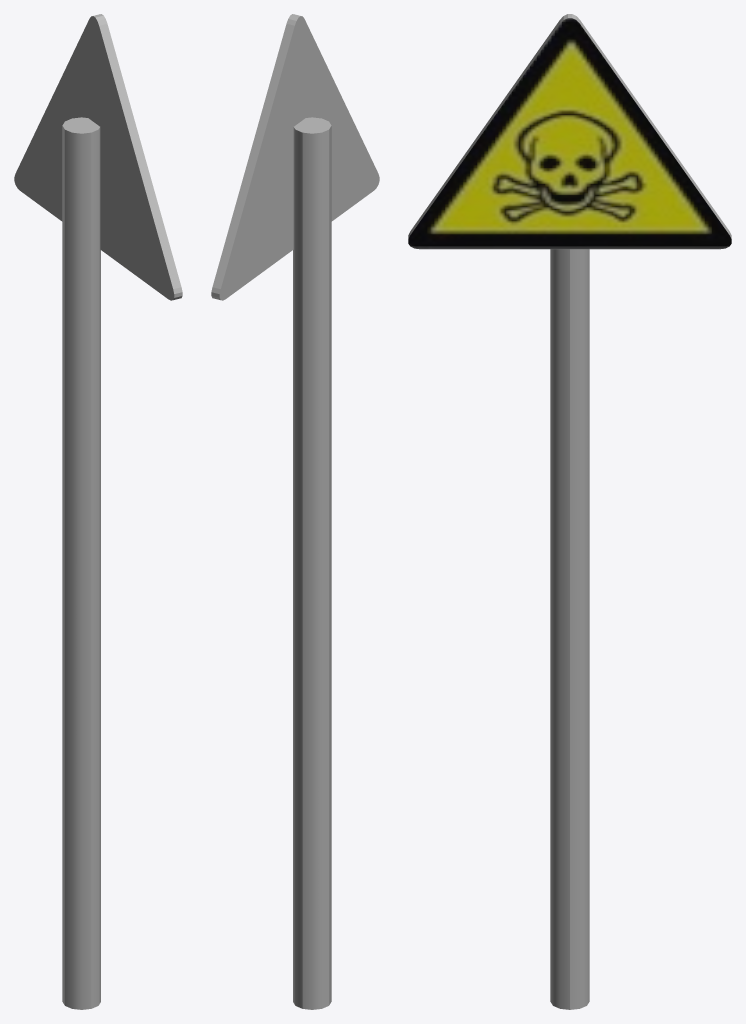
Rendered from rambu 4.fbx.
3 renders of one model, left to right at view 1: azimuth 30°, elevation 25°; view 2: azimuth 150°, elevation 25°; view 3: azimuth 270°, elevation 25°, orthographic.
Parts seen in each view (by area): view 1: Cylinder.023, Cylinder.022; view 2: Cylinder.023, Cylinder.022; view 3: Cylinder.022, Cylinder.023.
Boxes of the visible parts, x1,y1,x2,y2 form: Cylinder.023: [62, 117, 100, 1009]; Cylinder.022: [14, 14, 182, 300]; Cylinder.023: [293, 117, 331, 1009]; Cylinder.022: [211, 14, 379, 300]; Cylinder.022: [408, 14, 731, 249]; Cylinder.023: [550, 249, 589, 1009].
Size of the model in its own units: 9 by 224 by 66.13.
2 materials, 1 textured.
